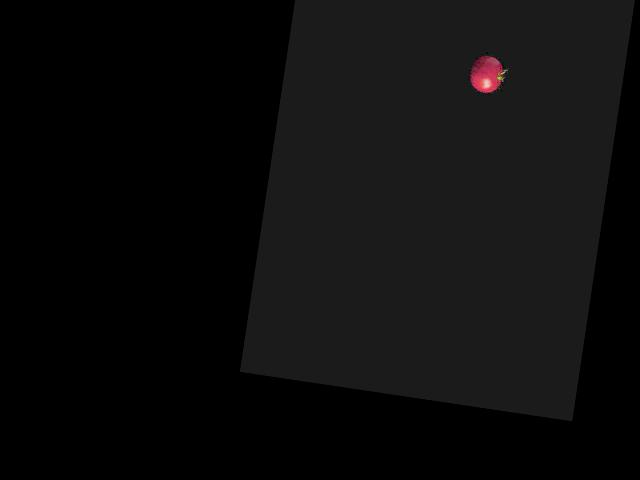tomato: (469, 53, 504, 94)
